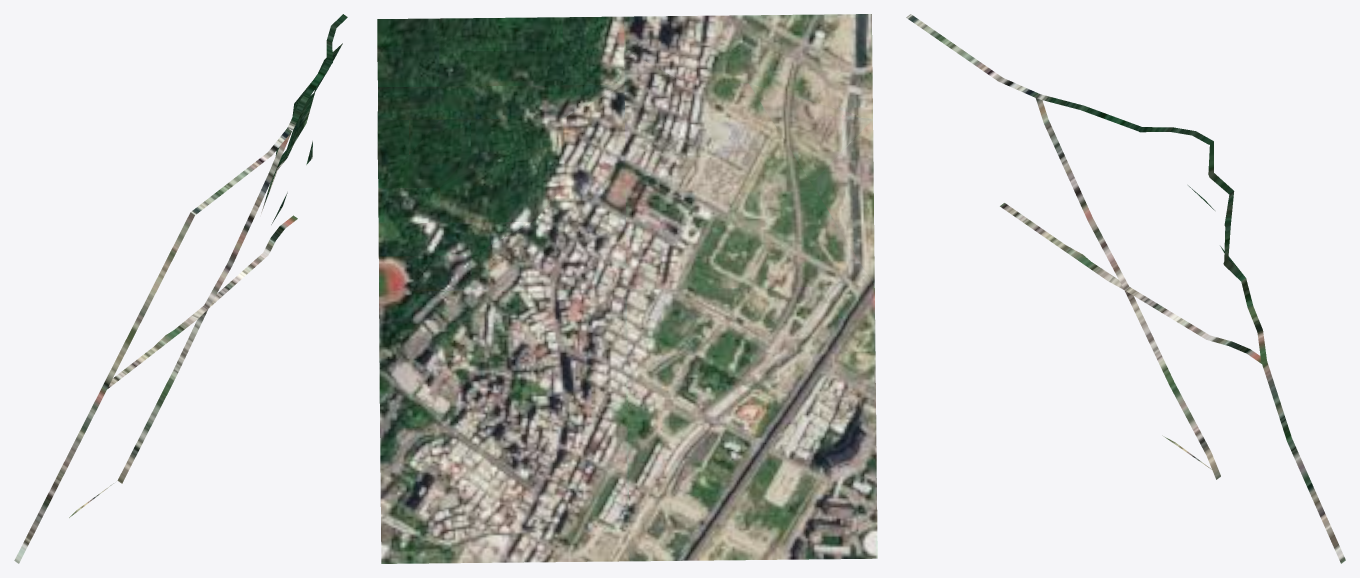
The picture shows the model from 3 angles, left to right: view 1: azimuth 30°, elevation 25°; view 2: azimuth 150°, elevation 25°; view 3: azimuth 270°, elevation 25°; orthographic projection. The views are drawn at different scales.
Bounding box in the file's own units: 1142 × 1183 × 1034.
Materials: 1 (1 with a texture image).
